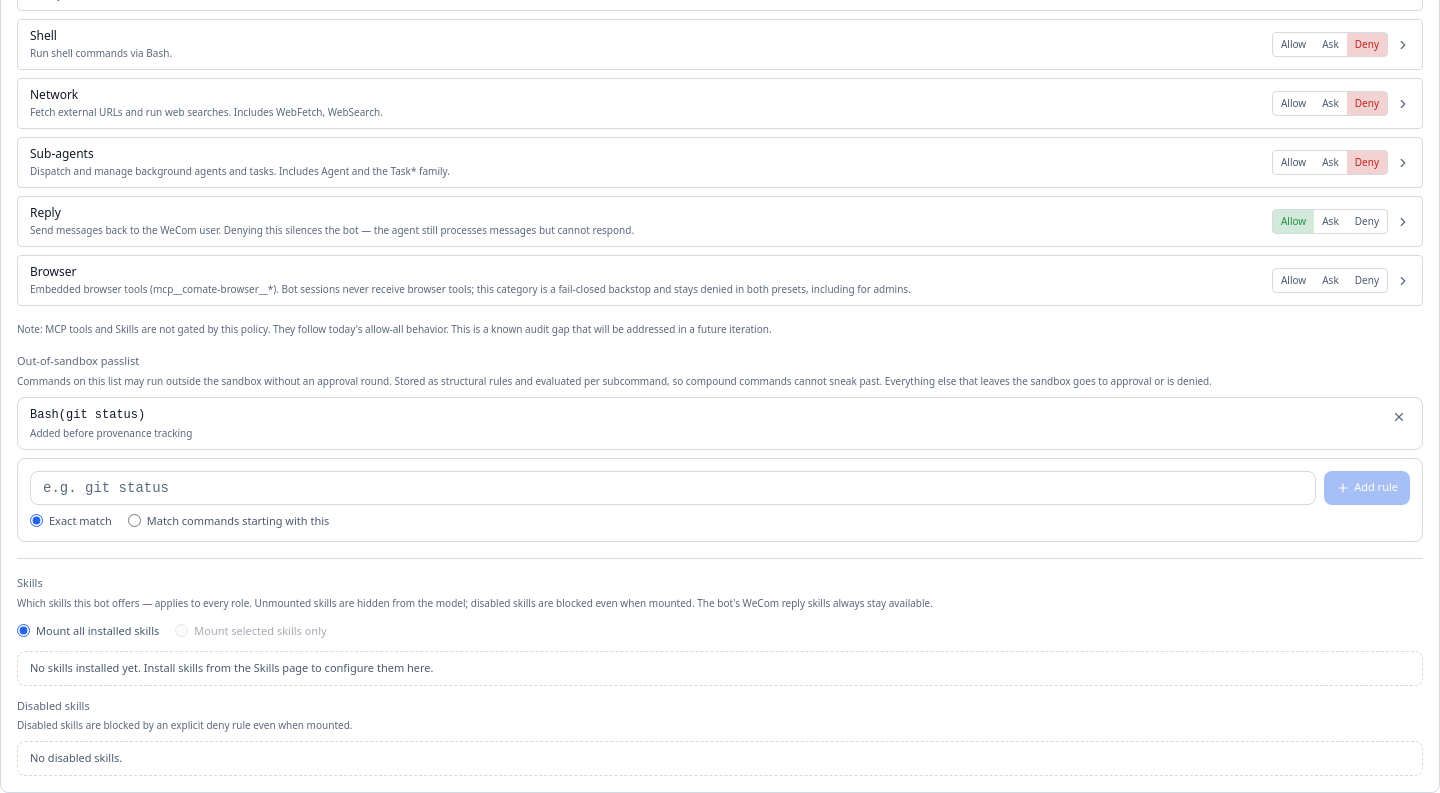
Test: BotRolePermissions › rejects duplicate rules with an inline note
(page scrolled)
In the field with placeholder "e.g. git status": {"x": 673, "y": 488} [30, 470, 1316, 504], type "git status"
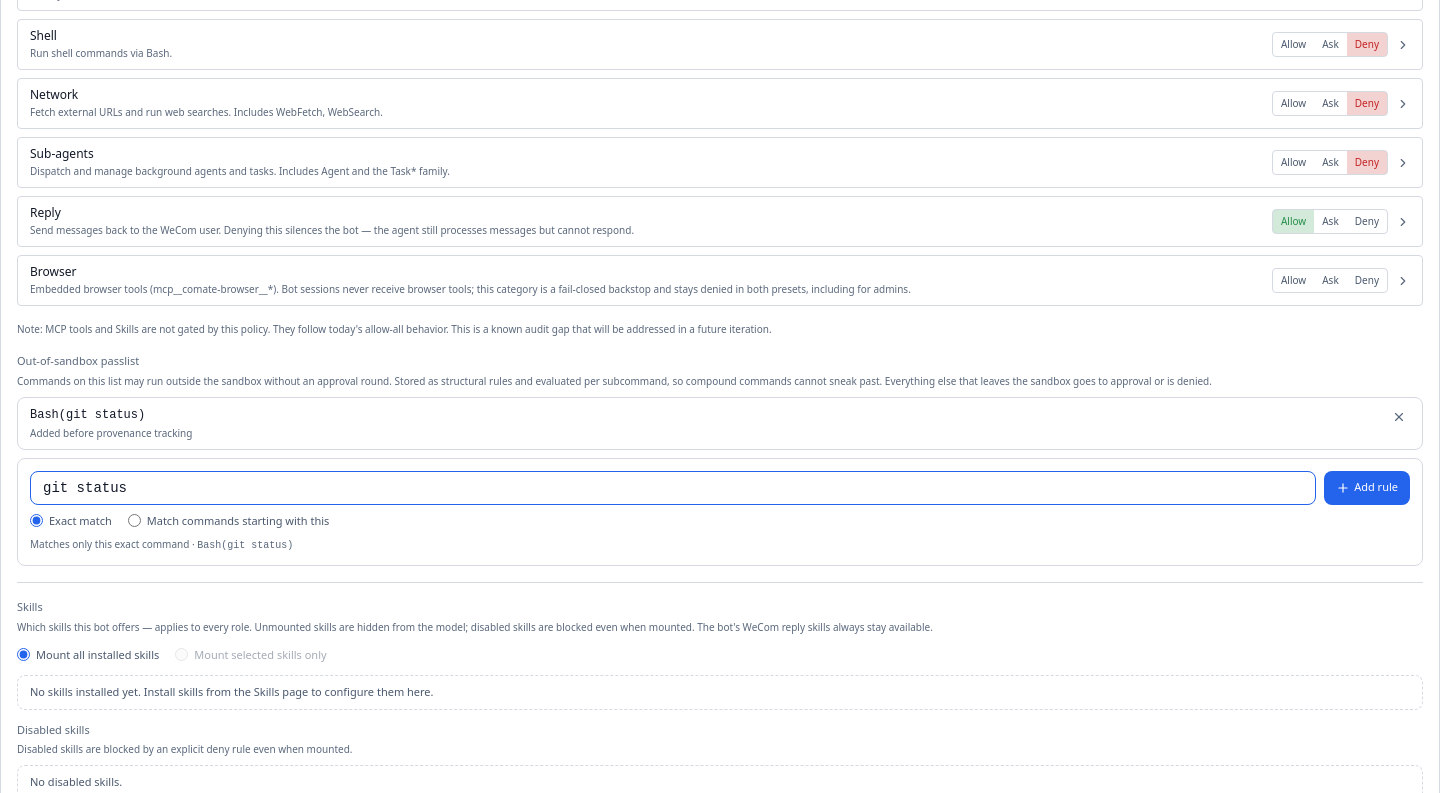
Click the button "Add rule": {"x": 1367, "y": 488} [1324, 470, 1410, 504]
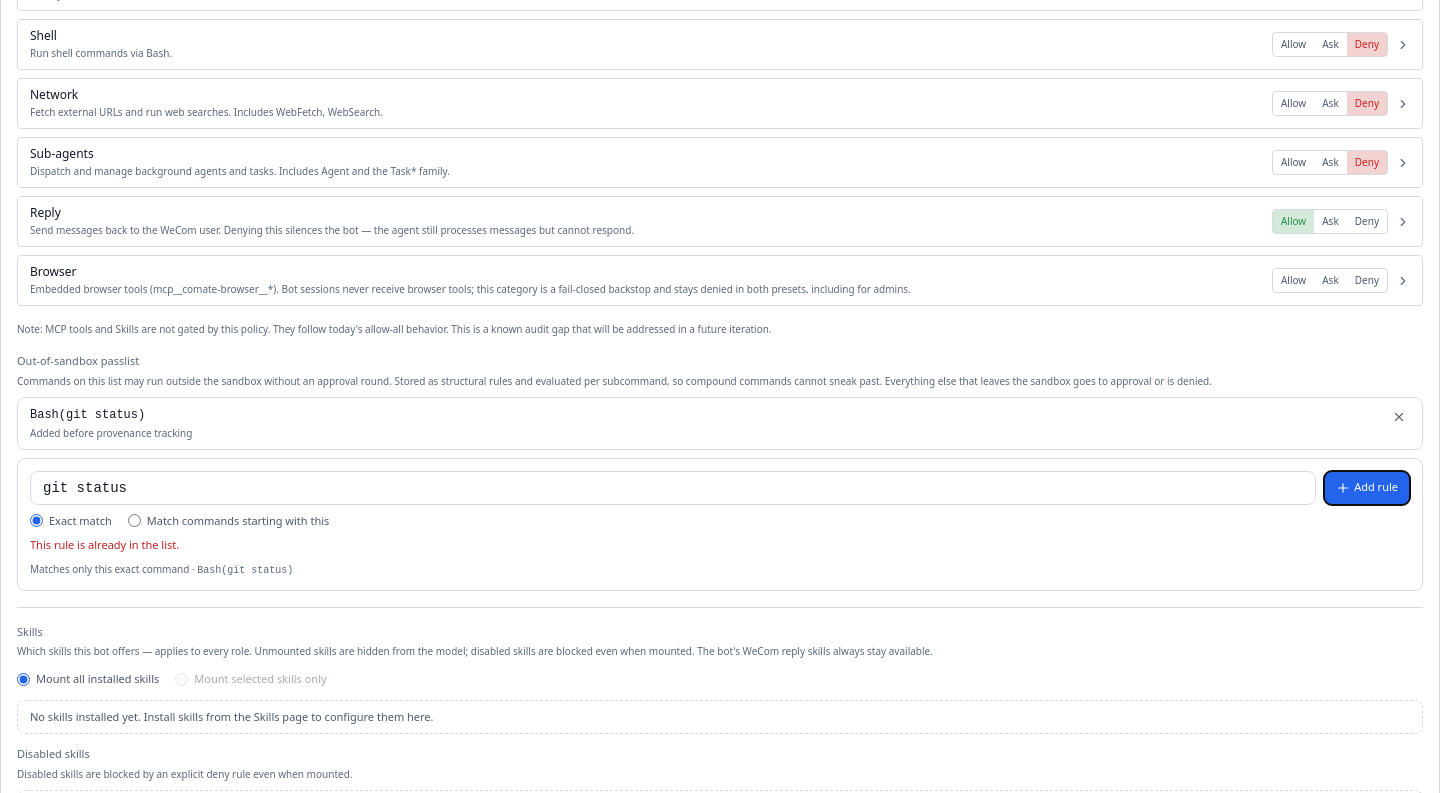
Check: the number of buttons named "Remove" is 1, box [1388, 406, 1410, 428]
Check: the text "This rule is already in the list." is shown, box [30, 537, 179, 552]
